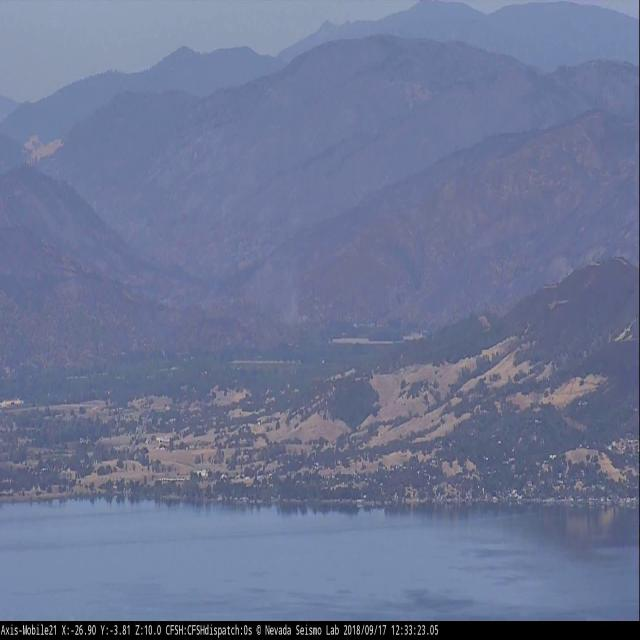smoke: (271, 274, 308, 322)
